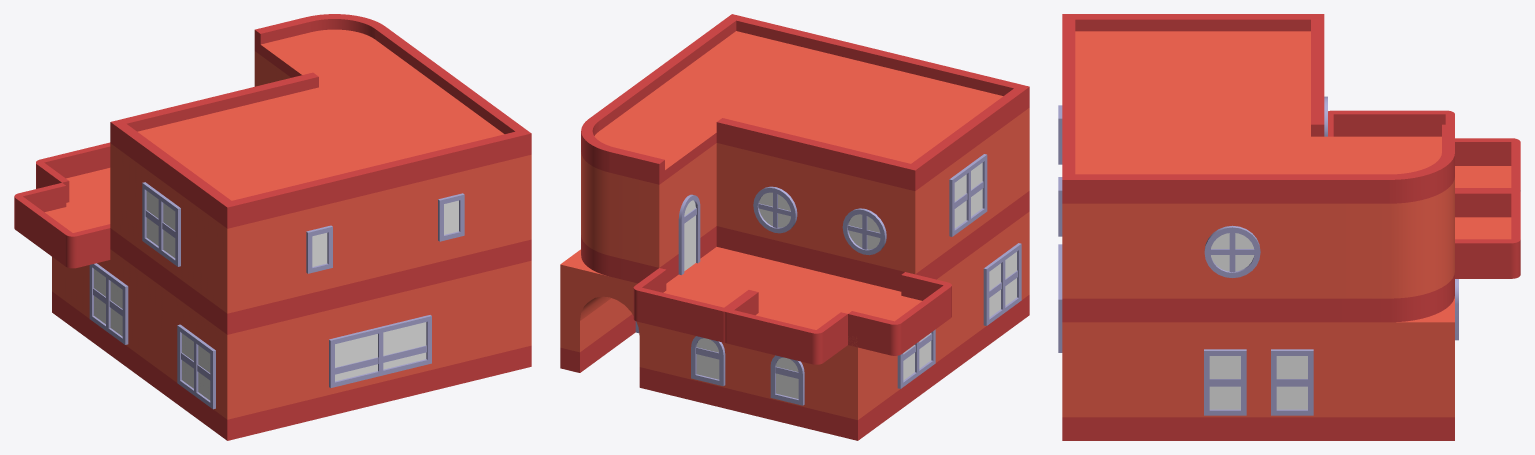
Rendered from House 1.fbx.
The picture shows the model from 3 angles, left to right: view 1: azimuth 30°, elevation 25°; view 2: azimuth 150°, elevation 25°; view 3: azimuth 270°, elevation 25°; orthographic projection. The views are drawn at different scales.
Parts seen in each view (by area): view 1: mergedBlocks; view 2: mergedBlocks; view 3: mergedBlocks.
Part boxes in pixels (x1,y1,x2,y2): mergedBlocks: (14,14,531,440); mergedBlocks: (560,14,1029,440); mergedBlocks: (1058,14,1520,440).
Size of the model in its own units: 34.3 by 22 by 35.3.
